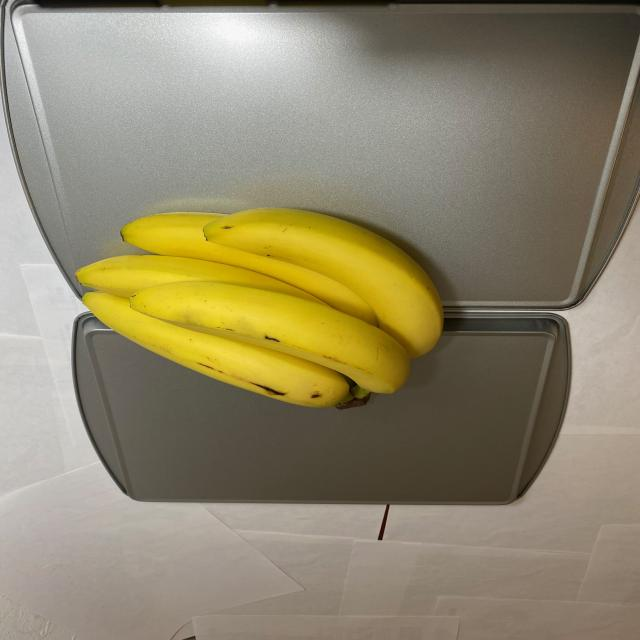banana: (72, 198, 446, 409)
